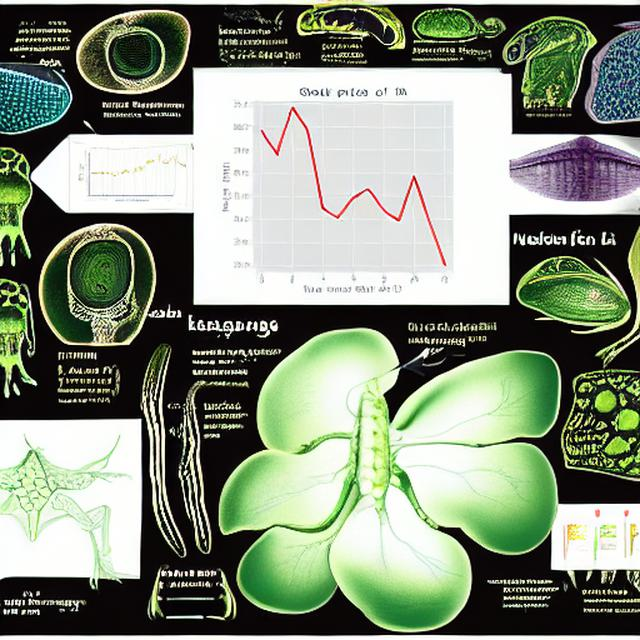Graph: (200, 73, 499, 297), (78, 145, 176, 205)
